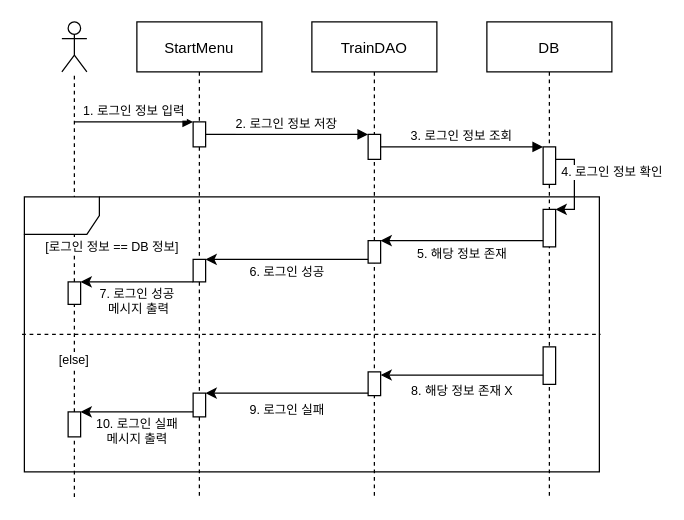
The diagram is 684 pixels wide and 520 high, and some of its shapes have lost their labels. The shapes that lost their labels are listed below. From the top down, each one's box as (x1, y1, x2, y2) in pixels, then its label:
(61, 21, 87, 72): Actor
(23, 196, 599, 472): alt
